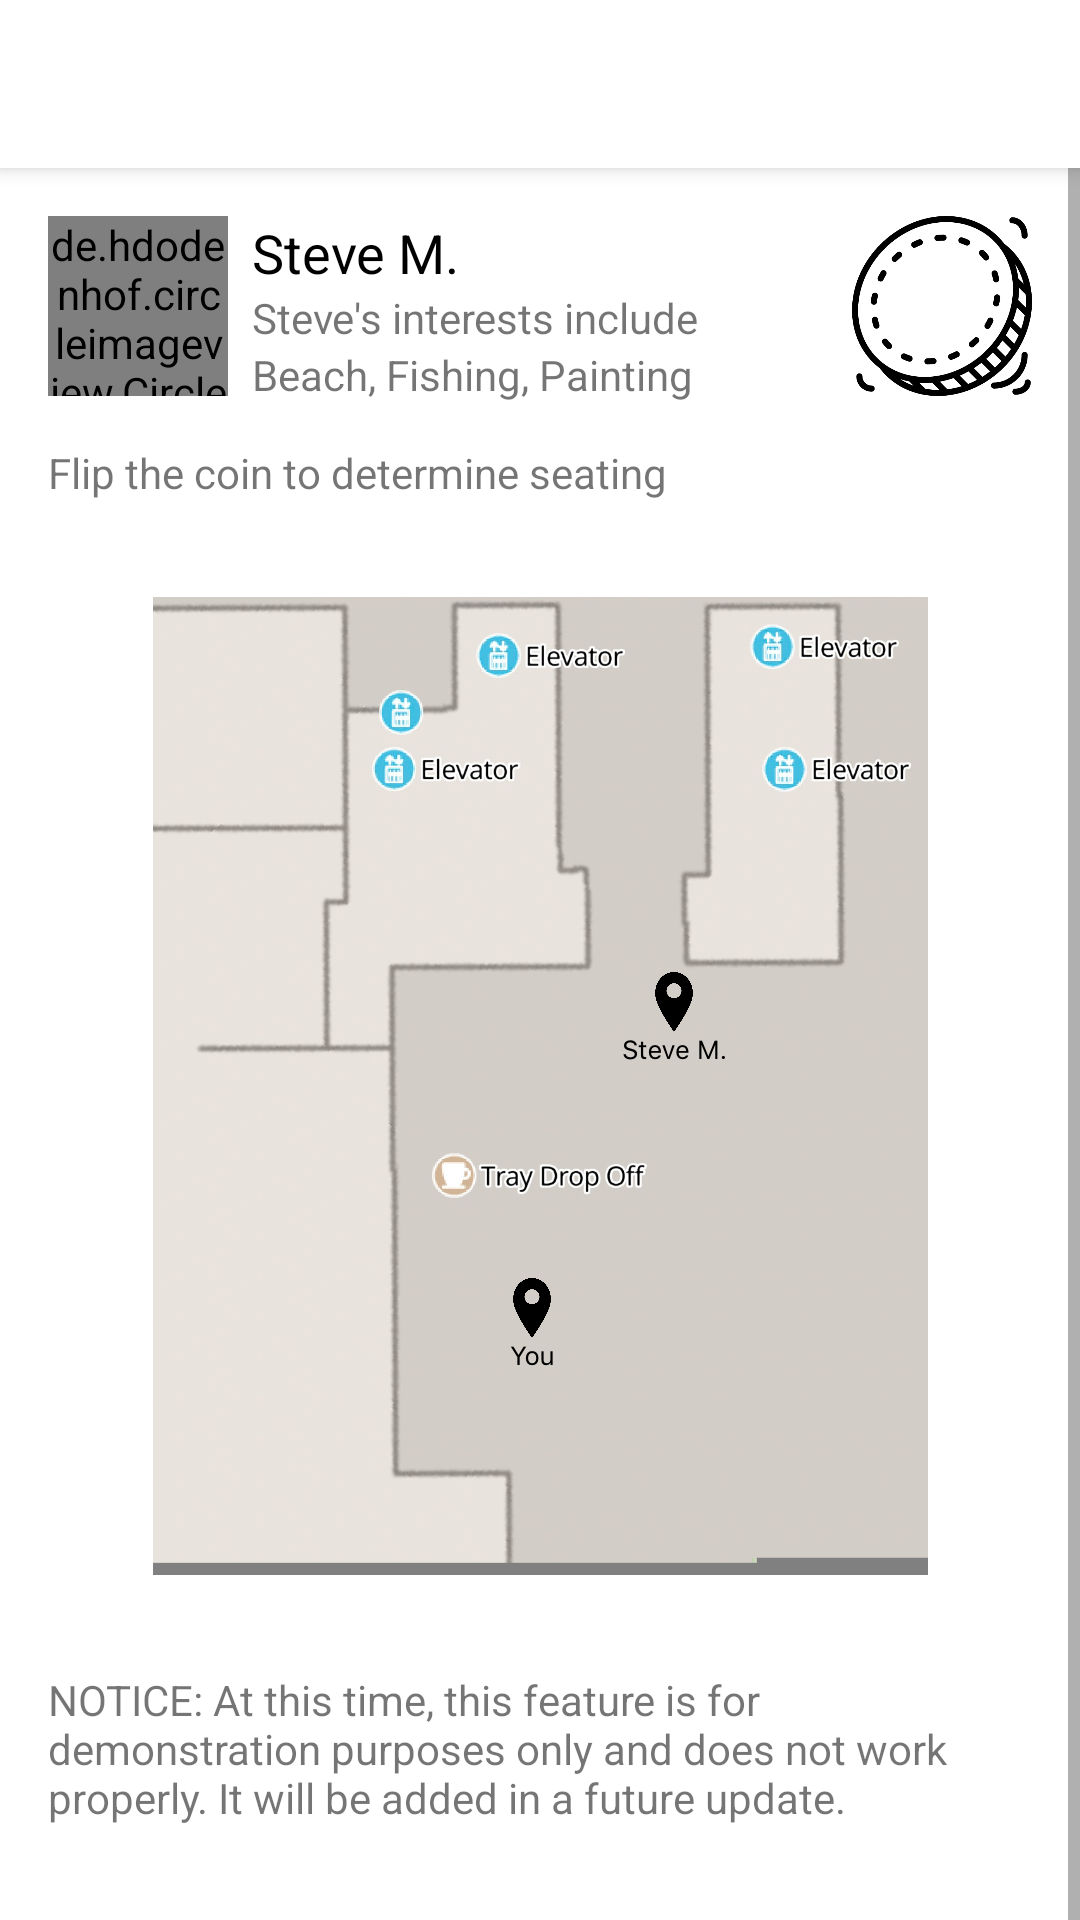

Named icons in this screenshot (1080px×1920px) and their bounding boxes, (x1, y1, x2, y2):
coin: (852, 216, 1032, 396)
